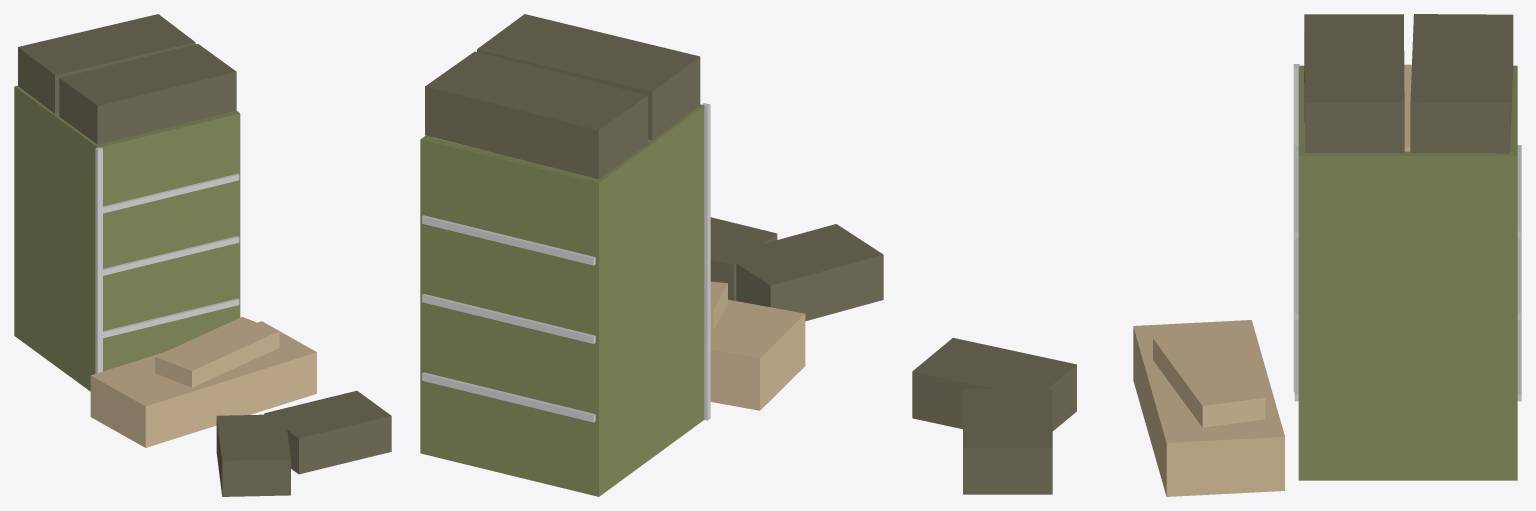
Rendered from SM_HescoCorto1_v3_RemateSacos_e1_Danado_LOD0.fbx.
The picture shows the model from 3 angles, left to right: view 1: azimuth 30°, elevation 25°; view 2: azimuth 150°, elevation 25°; view 3: azimuth 270°, elevation 25°; orthographic projection. The views are drawn at different scales.
Visible parts, largest first — view 1: SM_hesco_piezas_v53_LOD0; view 2: SM_hesco_piezas_v53_LOD0; view 3: SM_hesco_piezas_v53_LOD0.
Part boxes in pixels (x1,y1,x2,y2): SM_hesco_piezas_v53_LOD0: [14, 14, 391, 496]; SM_hesco_piezas_v53_LOD0: [420, 14, 883, 496]; SM_hesco_piezas_v53_LOD0: [912, 14, 1521, 496].
Bounding box in the file's own units: 1.46 × 2.09 × 3.06.
